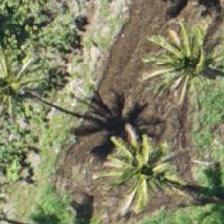coconut_tree: (99, 128, 189, 218), (145, 19, 223, 109), (0, 43, 51, 133)
